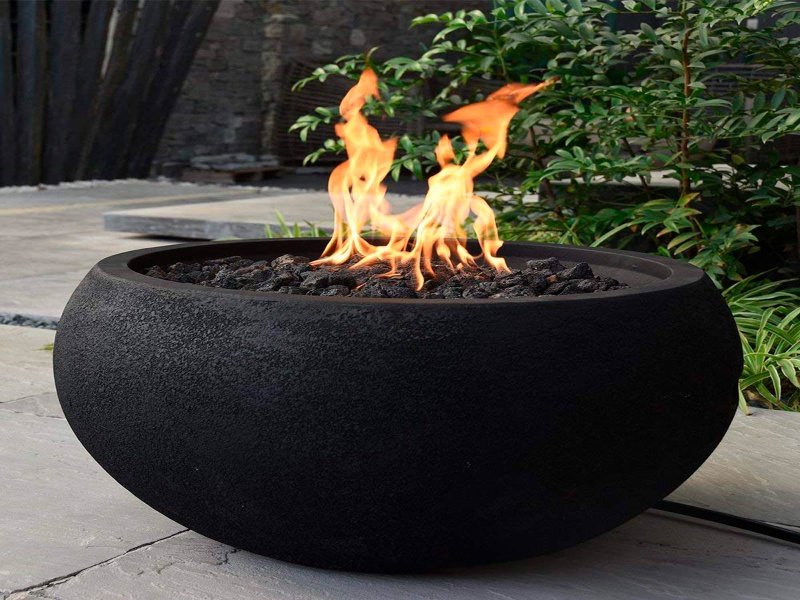fire: (407, 72, 506, 280), (331, 67, 399, 282), (507, 82, 552, 97)
